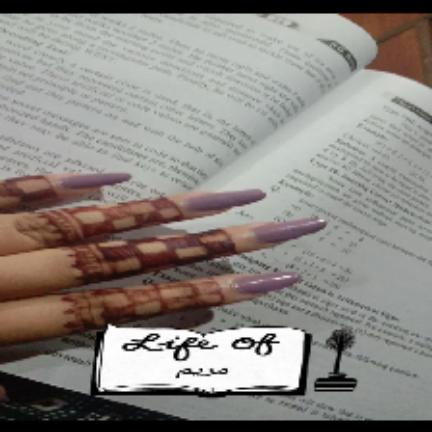Nail: (187, 189, 266, 213), (253, 219, 326, 243), (232, 272, 301, 294), (59, 173, 132, 189)
